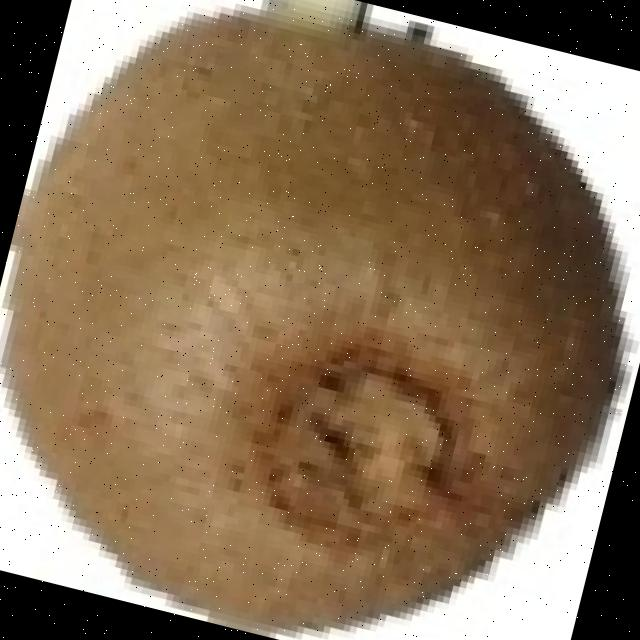kiwi: (5, 0, 616, 632)
